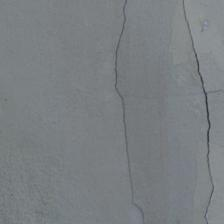Crack: (0, 0, 145, 152), (19, 55, 130, 166)
